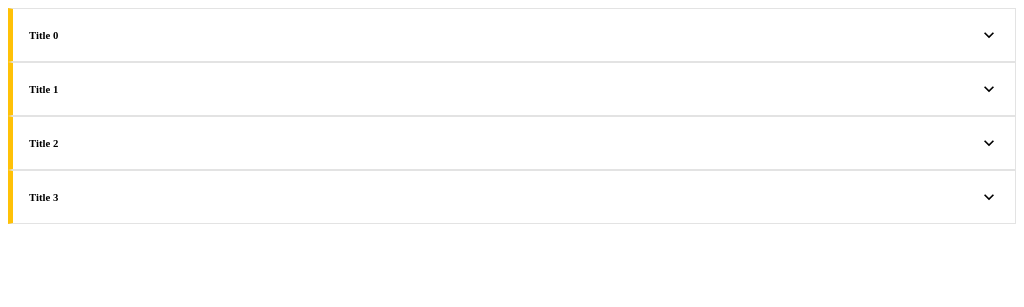
Test: closes accordion when it clicks on it
Click the button "Title 1" at point(44, 89), box [29,79,999,99]
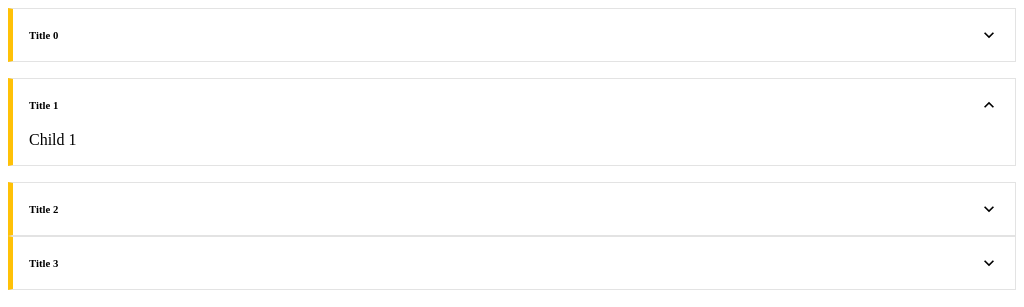
Now the text "Child 1" is shown, box [29,131,77,148]
Click the button "Title 1" at point(44, 105), box [29,95,999,115]
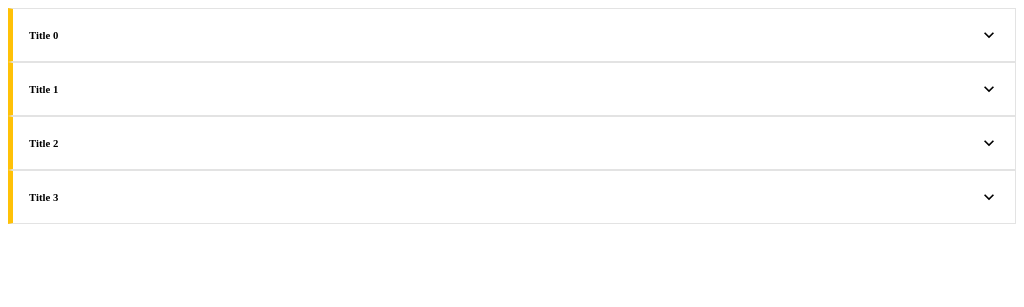
Now the text "Child 1" is gone
